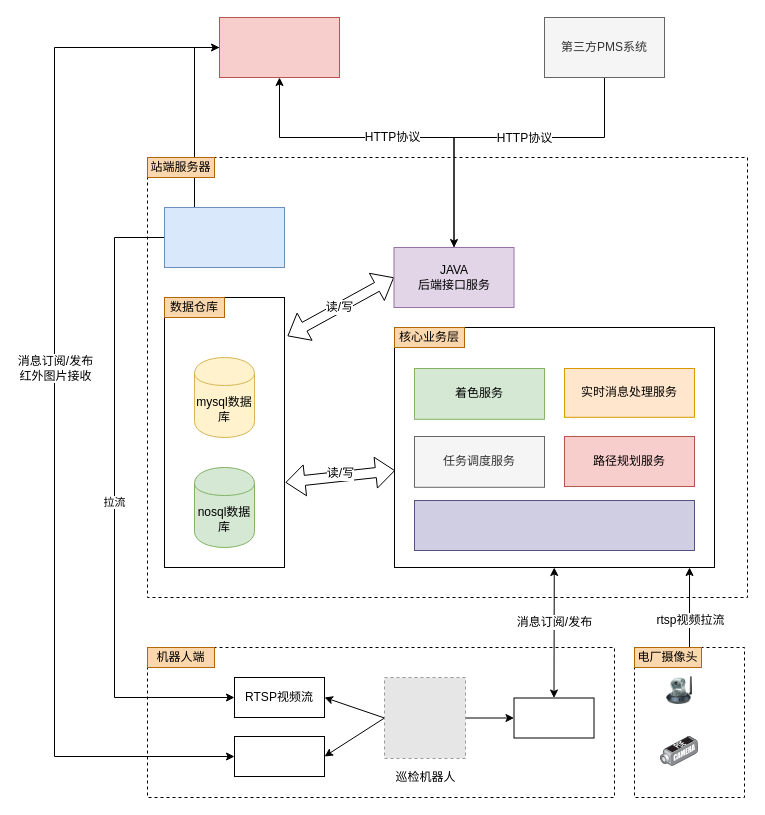
This 765x815 diagram has some shape labels left out. Grey dashed boxes stand in for pictures. Here are the shapes that lost their labels. From the top down, the centre of each, then its label:
the point at 279,47: 前端界面展示
the point at 224,237: RTSP转WebRTC服务
the point at 554,525: 电站摄像头报警检测服务
the point at 679,690: 可见光摄像头
the point at 553,717: Ros服务
the point at 279,756: RosBridge服务
the point at 679,751: 红外摄像头
